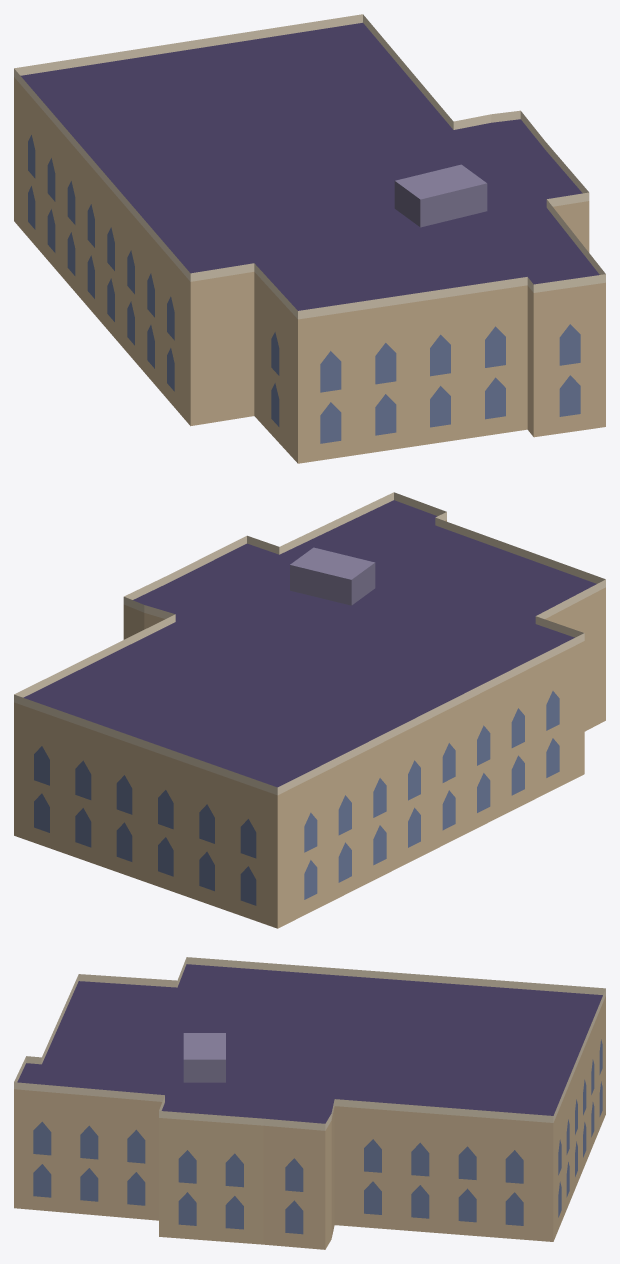
The model's file is b-023-day.glb.
The picture shows the model from 3 angles, top to bottom: view 1: azimuth 30°, elevation 25°; view 2: azimuth 150°, elevation 25°; view 3: azimuth 270°, elevation 25°; orthographic projection. The views are drawn at different scales.
Parts seen in each view (by area): view 1: campus/b-023-day-0; view 2: campus/b-023-day-0; view 3: campus/b-023-day-0.
Part boxes in pixels (box(x1,y1,x2,y2)): campus/b-023-day-0: box(14, 14, 605, 463); campus/b-023-day-0: box(14, 492, 605, 928); campus/b-023-day-0: box(14, 957, 605, 1249).
Bounding box in the file's own units: 27.95 × 11.1 × 41.92.
